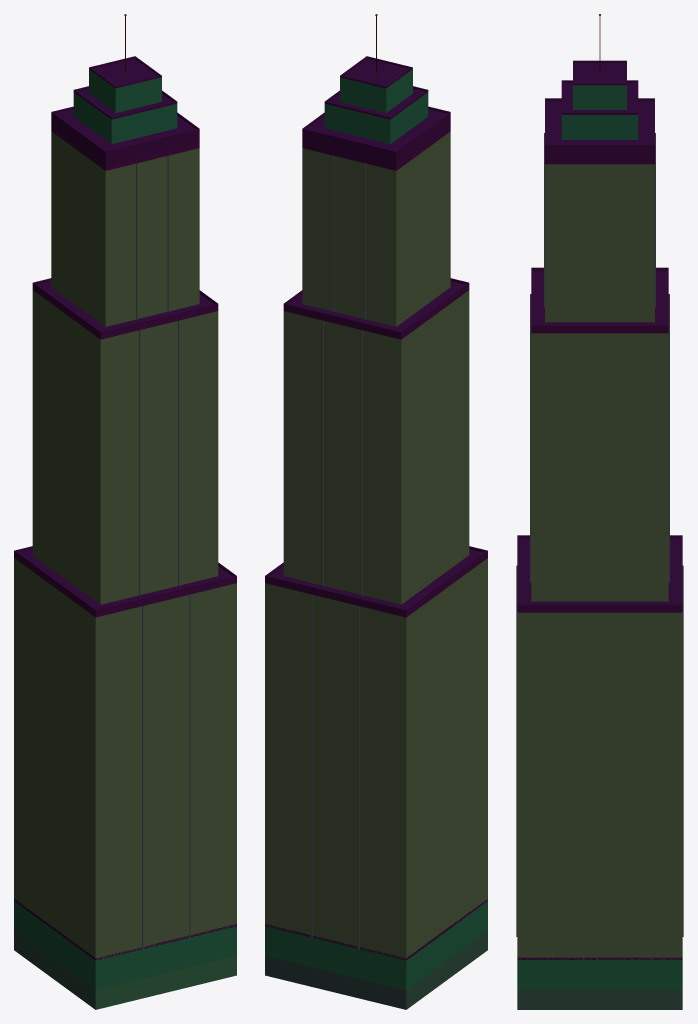
The model's file is tower_e.glb.
3 views of the same model, side by side, from view 1: azimuth 30°, elevation 25°; view 2: azimuth 150°, elevation 25°; view 3: azimuth 270°, elevation 25° (orthographic).
Parts seen in each view (by area): view 1: tower_e; view 2: tower_e; view 3: tower_e.
Boxes of the visible parts, x1,y1,x2,y2 form: tower_e: [14, 14, 236, 1009]; tower_e: [265, 14, 487, 1009]; tower_e: [516, 14, 683, 1009].
Size of the model in its own units: 36 by 231 by 36.51.
